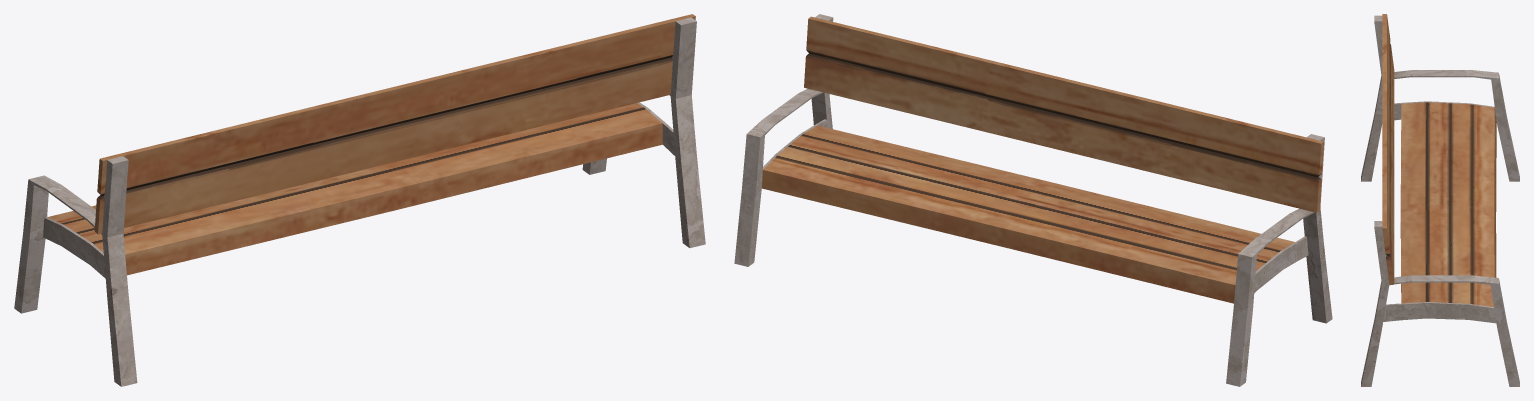
The model's file is Bench.fbx.
3 views of the same model, side by side, from view 1: azimuth 30°, elevation 25°; view 2: azimuth 150°, elevation 25°; view 3: azimuth 270°, elevation 25° (orthographic). The views are drawn at different scales.
Parts seen in each view (by area): view 1: Bench; view 2: Bench; view 3: Bench.
Boxes of the visible parts, x1,y1,x2,y2 form: Bench: (14,14,705,386); Bench: (734,14,1332,386); Bench: (1361,14,1519,386).
Bounding box in the file's own units: 166 × 58.08 × 52.09.
